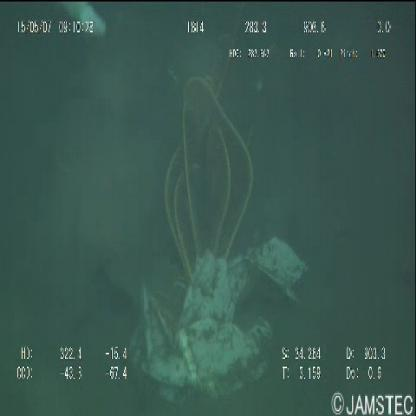Rác: (128, 236, 310, 410)
